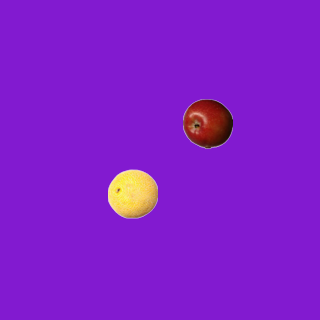Apple Braeburn: (182, 98, 232, 148)
Cantaloupe 1: (107, 168, 157, 218)
